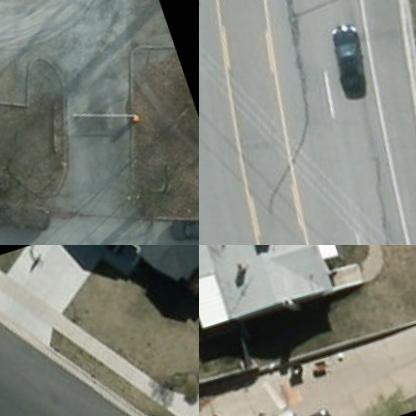car: (318, 18, 380, 104), (163, 210, 198, 244), (266, 408, 334, 415)
